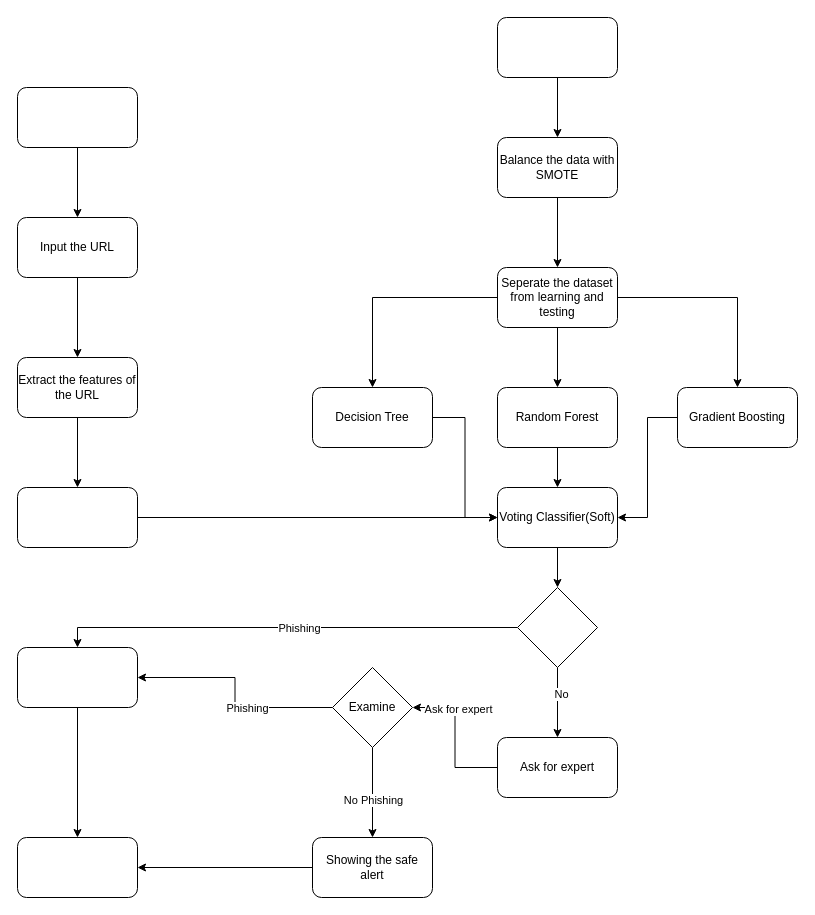
The diagram is 815 pixels wide and 915 high, and some of its shapes have lost their labels. The shapes that lost their labels are listed below. From the top down, each one's box as (x1, y1, x2, y2) in pixels, then its label:
(496, 16, 618, 78): Dataset
(16, 86, 138, 148): Start
(16, 486, 138, 548): Use pickle file
(516, 586, 598, 668): Detect
(16, 646, 138, 708): Alerting the user
(16, 836, 138, 898): End
